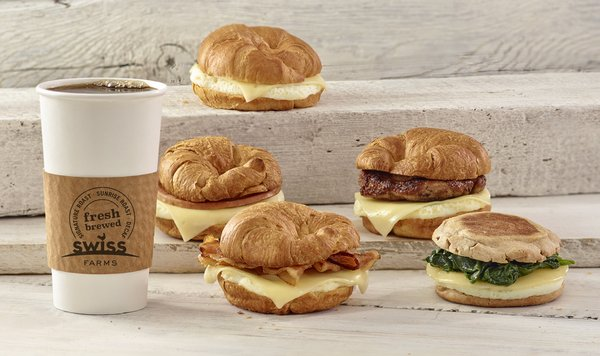pizza: (36, 76, 167, 316)
soup: (199, 201, 379, 315), (353, 126, 494, 240), (425, 210, 575, 308)
